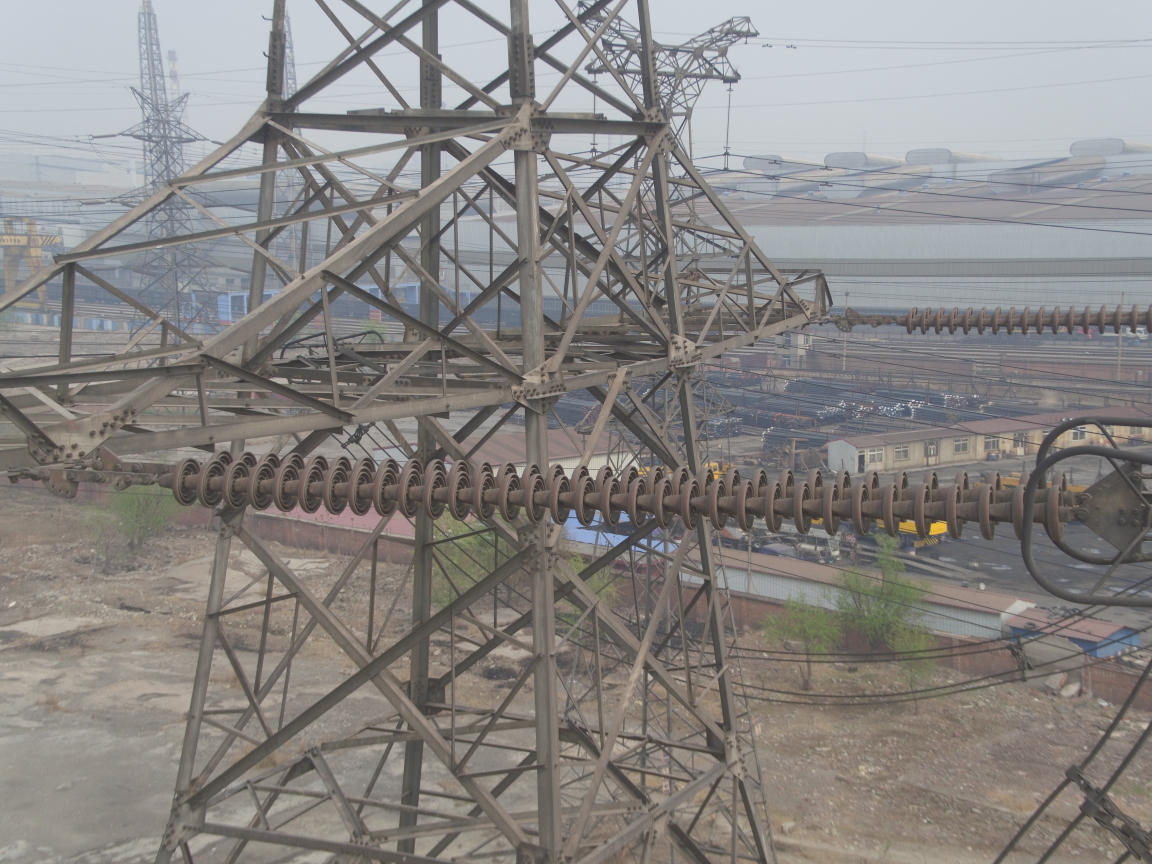insulator: (113, 445, 1115, 546), (878, 302, 1152, 337)
